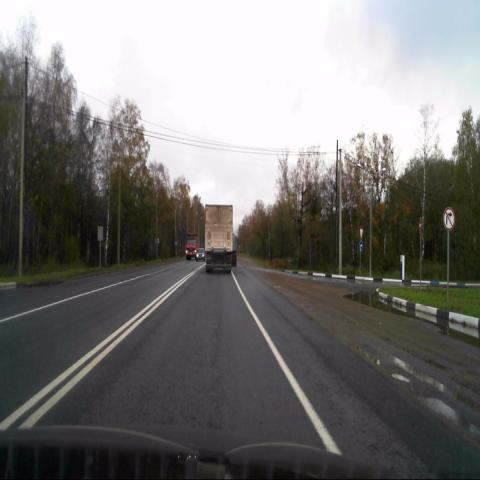3_18: (442, 208, 454, 230)
